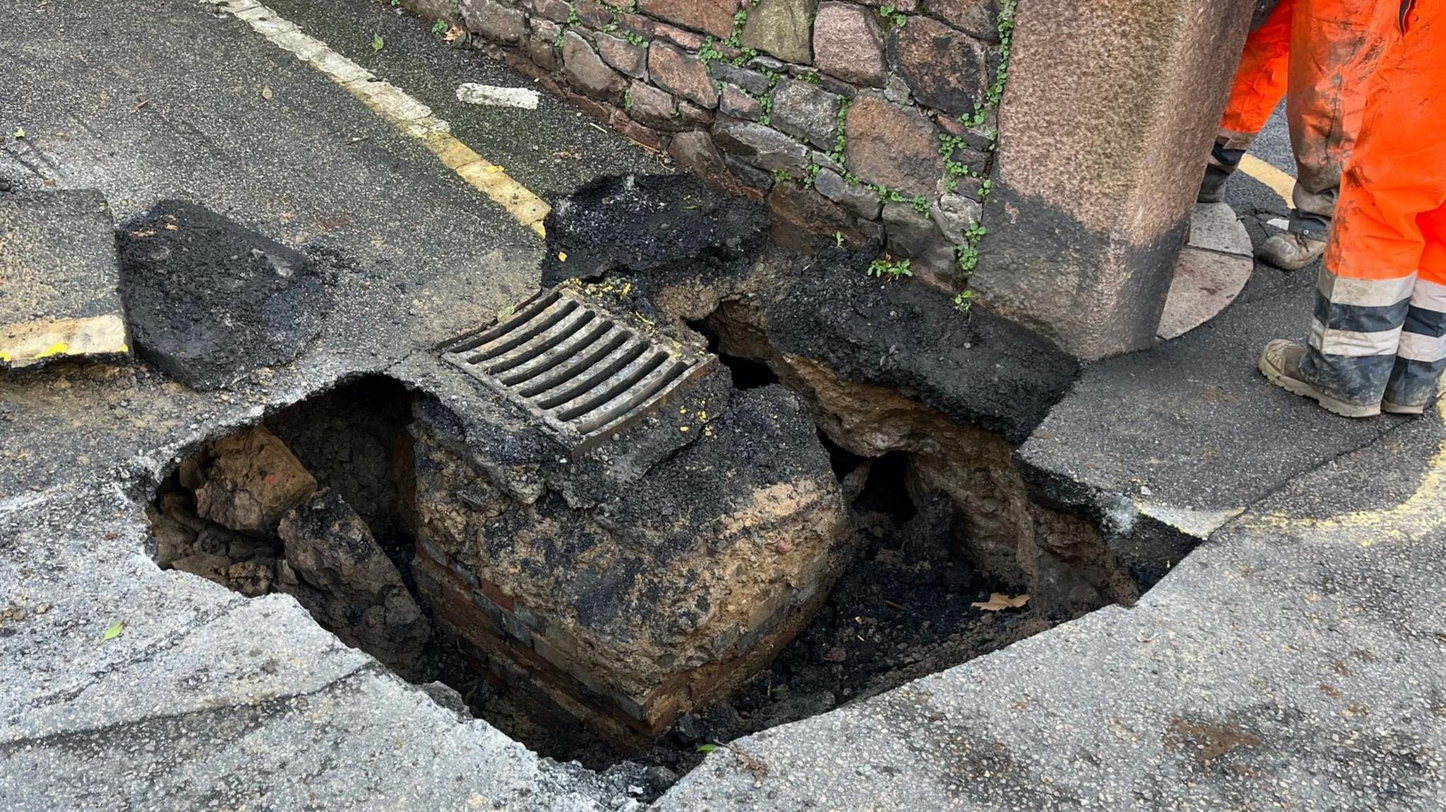Hole_in_the_road: (133, 109, 1242, 728)
